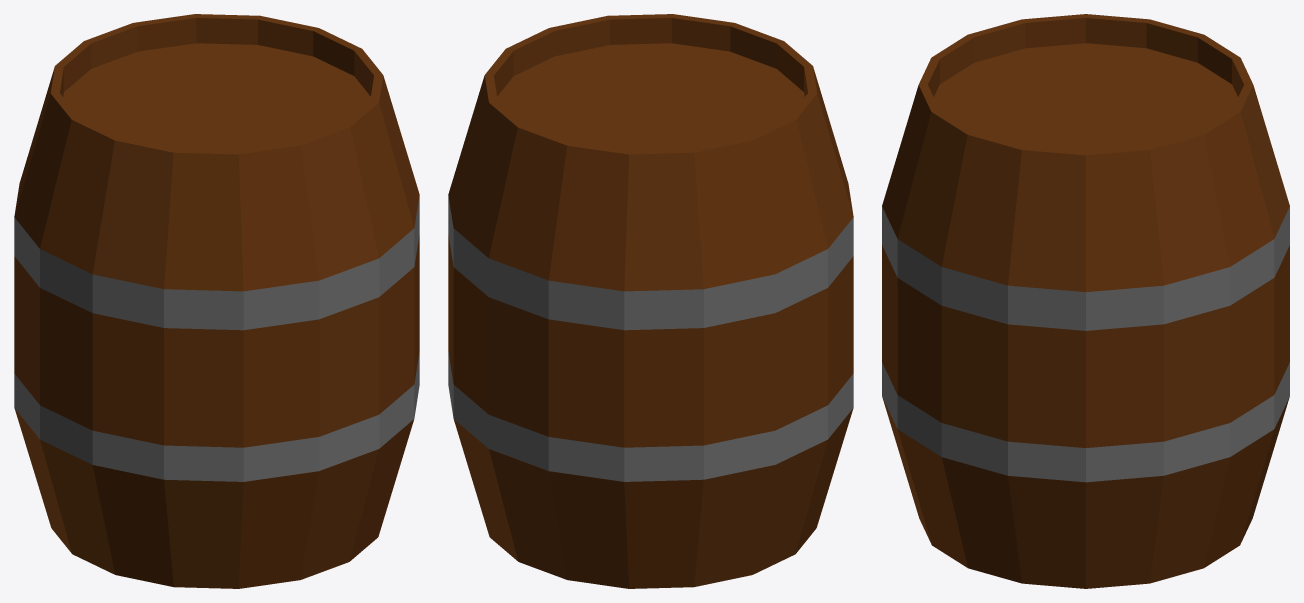
Rendered from LowPoly_Barrell01.fbx.
3 views of the same model, side by side, from view 1: azimuth 30°, elevation 25°; view 2: azimuth 150°, elevation 25°; view 3: azimuth 270°, elevation 25° (orthographic).
Visible parts, largest first — view 1: Barrell; view 2: Barrell; view 3: Barrell.
Boxes of the visible parts, box(x1,y1,x2,y2) form: Barrell: box(14, 14, 419, 588); Barrell: box(448, 14, 853, 588); Barrell: box(882, 14, 1289, 588).
Size of the model in its own units: 59.67 by 70 by 59.67.
